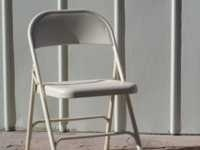obstacle: (27, 10, 142, 148)
